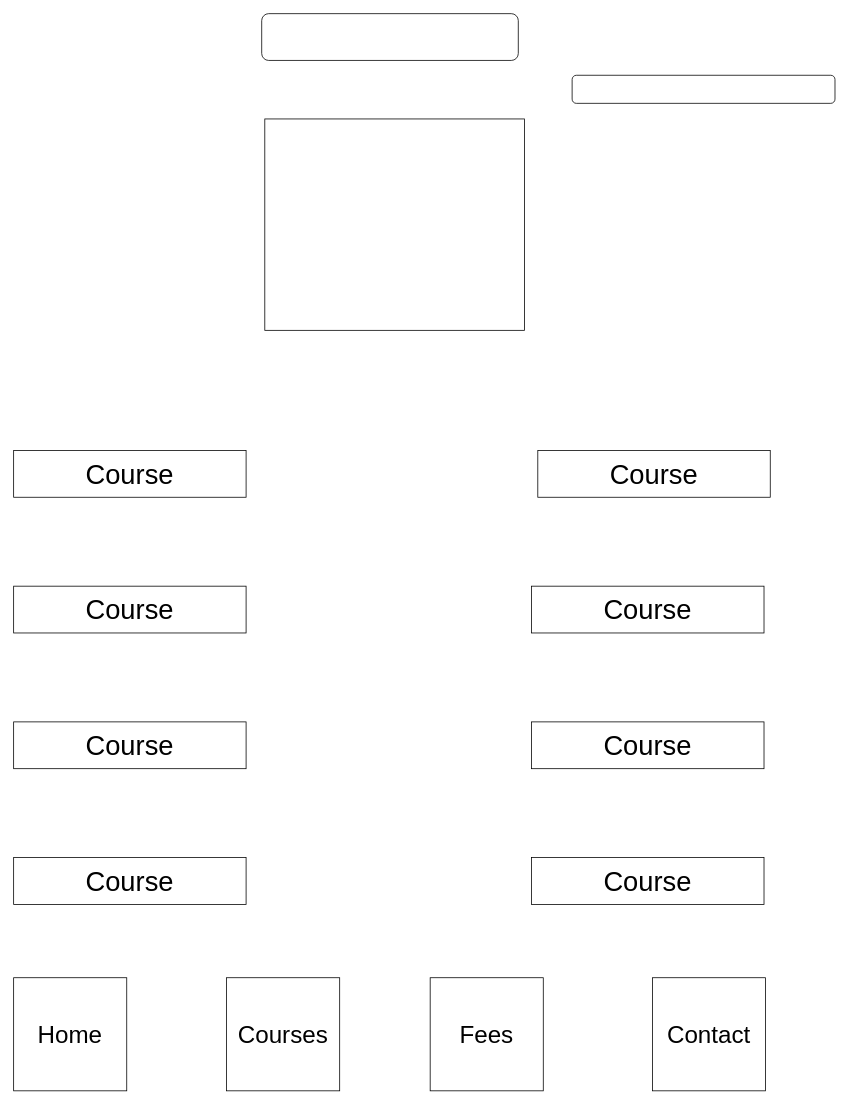
Some shapes in this 849 by 1104 pixel diagram are drawn without their labels. The shapes that lost their labels are listed below. From the top down, each one's box as (x1, y1, x2, y2) in pixels, then its label:
(261, 13, 518, 60): Heading
(571, 74, 835, 103): Search Engine
(264, 118, 525, 330): About business
